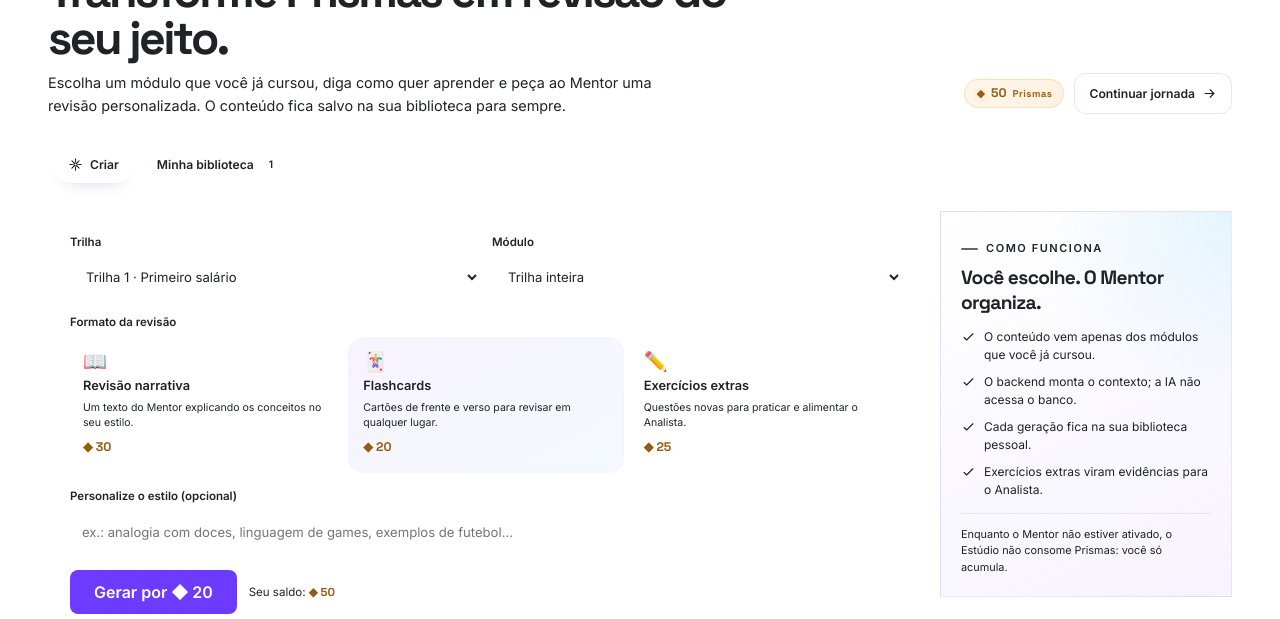
Test case: StudioPage › opens a saved review from the personal library
The width and height of the screenshot is (1280, 619).
Click the tab "Minha biblioteca 1" at (219, 164), box [142,145,296,184]
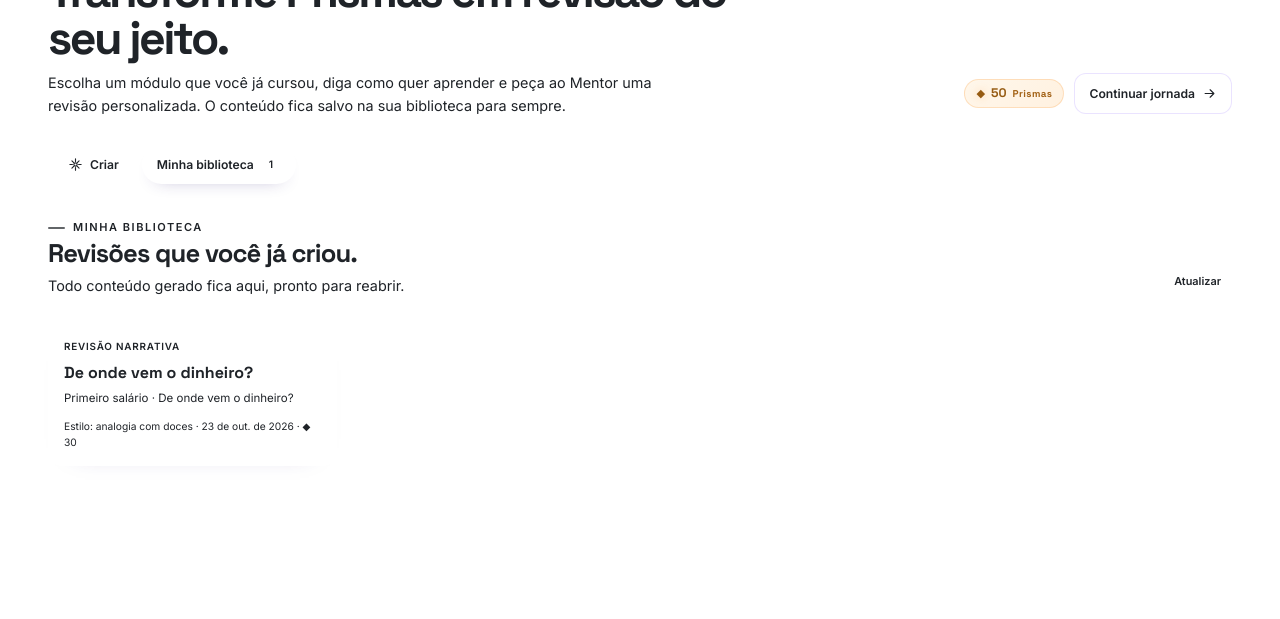
Click the button "Revisão narrativa" at (192, 395), box [48,323,336,466]
(page scrolled)
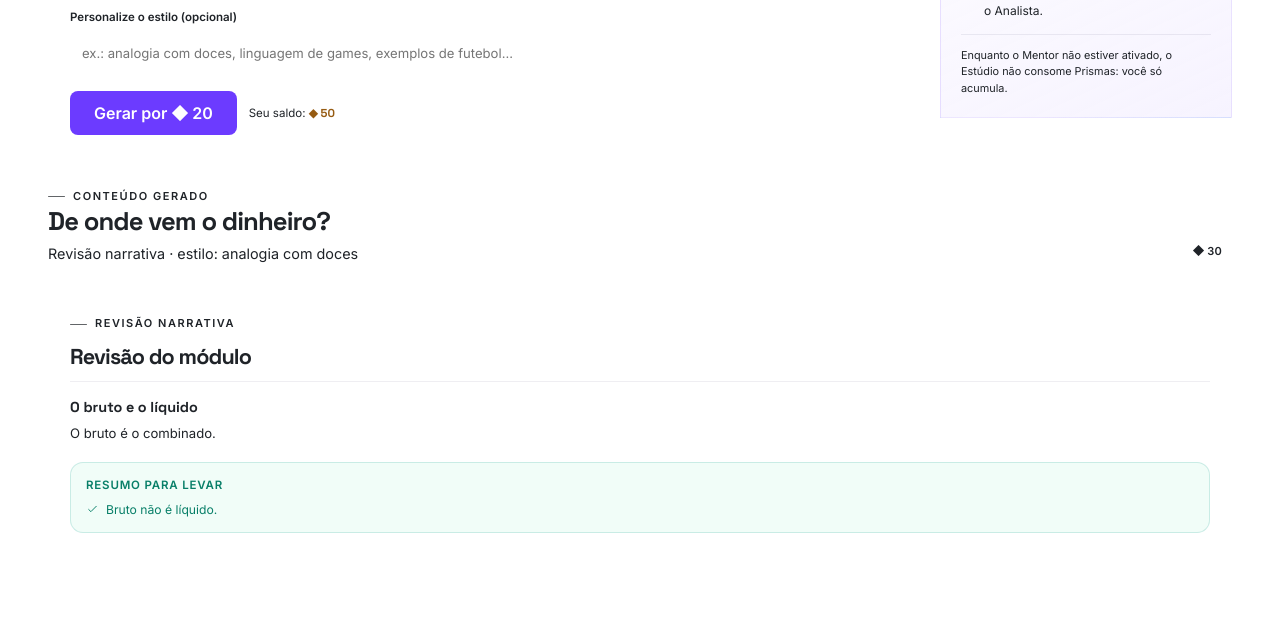
Now the heading "O bruto e o líquido" is shown, box [70,398,198,416]
Now the text "O bruto é o combinado." is shown, box [70,425,216,441]
